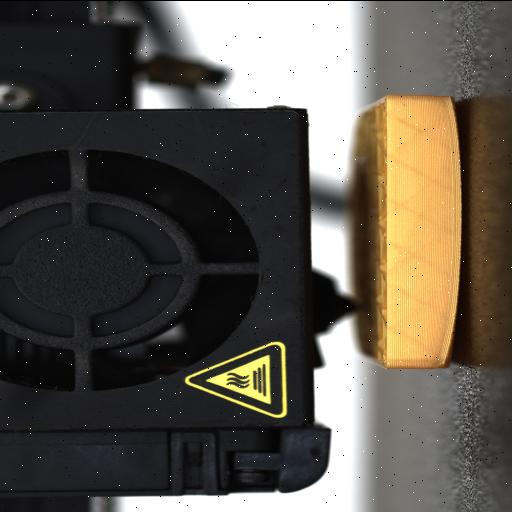warp: (431, 318, 465, 370), (437, 94, 465, 140)
